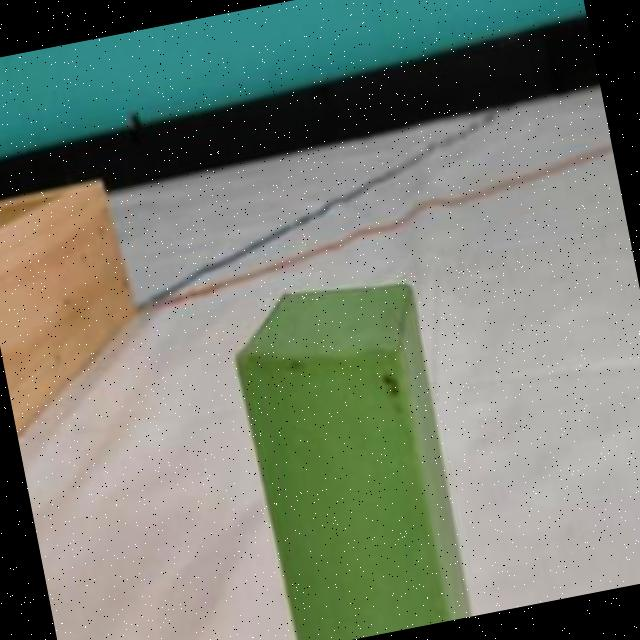greenbox: (220, 263, 479, 640)
